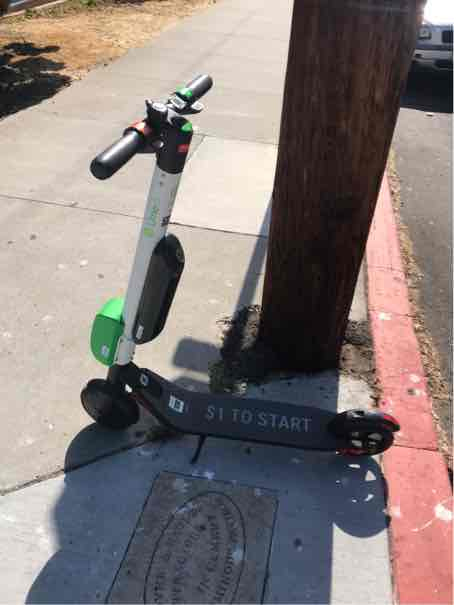scooter: (61, 69, 415, 493)
